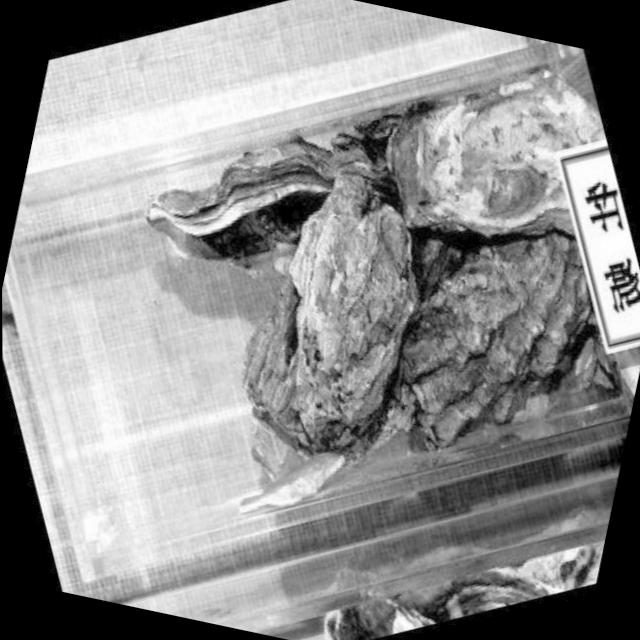Oyster-Closed: (124, 122, 346, 295)
Oyster-Indeterminate: (384, 224, 609, 465), (283, 158, 430, 455), (229, 270, 417, 473), (321, 97, 417, 193)
Oyster-Open: (374, 59, 610, 241)
